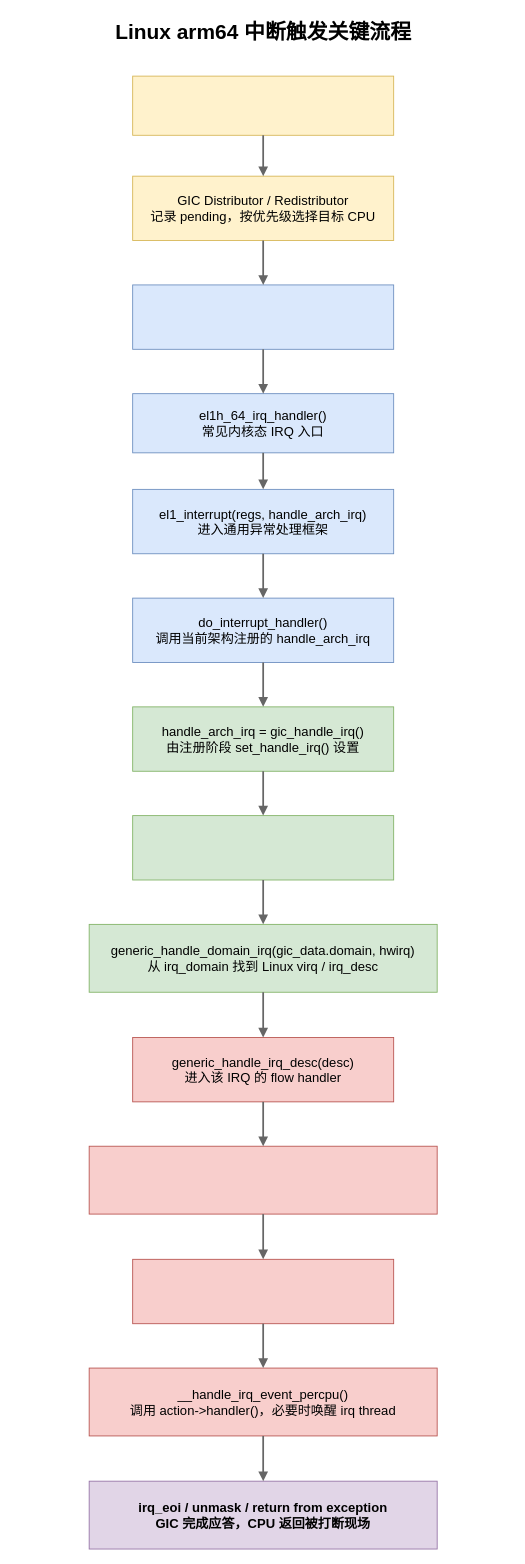
Image size: 525x1564. Some labels were removed from this diagram. The box of each missing label's shape, as (x1, y1, x2, y2) in pixels:
CPU 接收 IRQ exception 跳入 arm64 exception vector: (132, 284, 394, 349)
desc->handle_irq() handle_fasteoi_irq() / handle_level_irq() / handle_edge_irq(): (88, 1145, 437, 1214)
gic_read_iar() 读取 IAR，获得 GIC hwirq / INTID: (132, 815, 394, 880)
handle_irq_event() 遍历 irq_desc 上的 irqaction 链表: (132, 1258, 394, 1324)
外设产生 IRQ 中断线进入 GIC: (132, 75, 394, 135)
